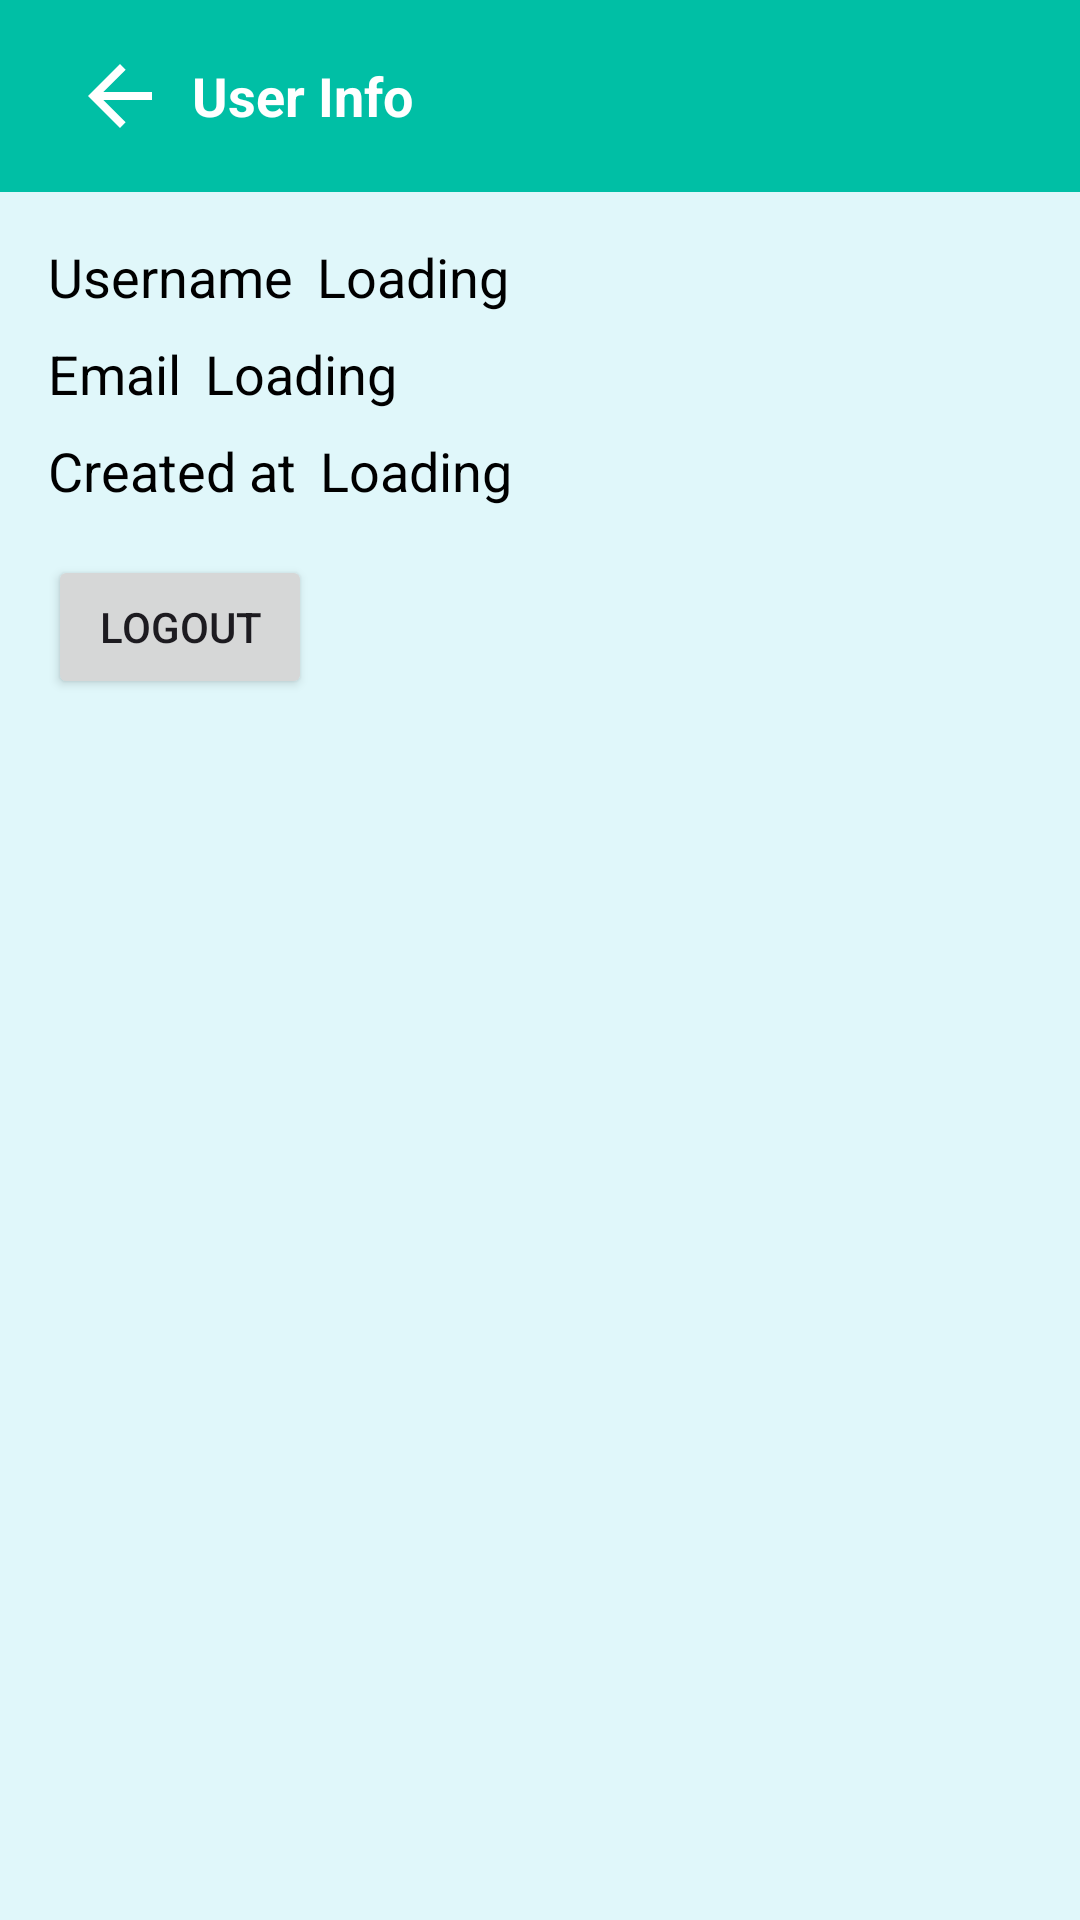

Named icons in this screenshot (1080 × 1920) and their centers, (x,y):
Back: (120,96)
